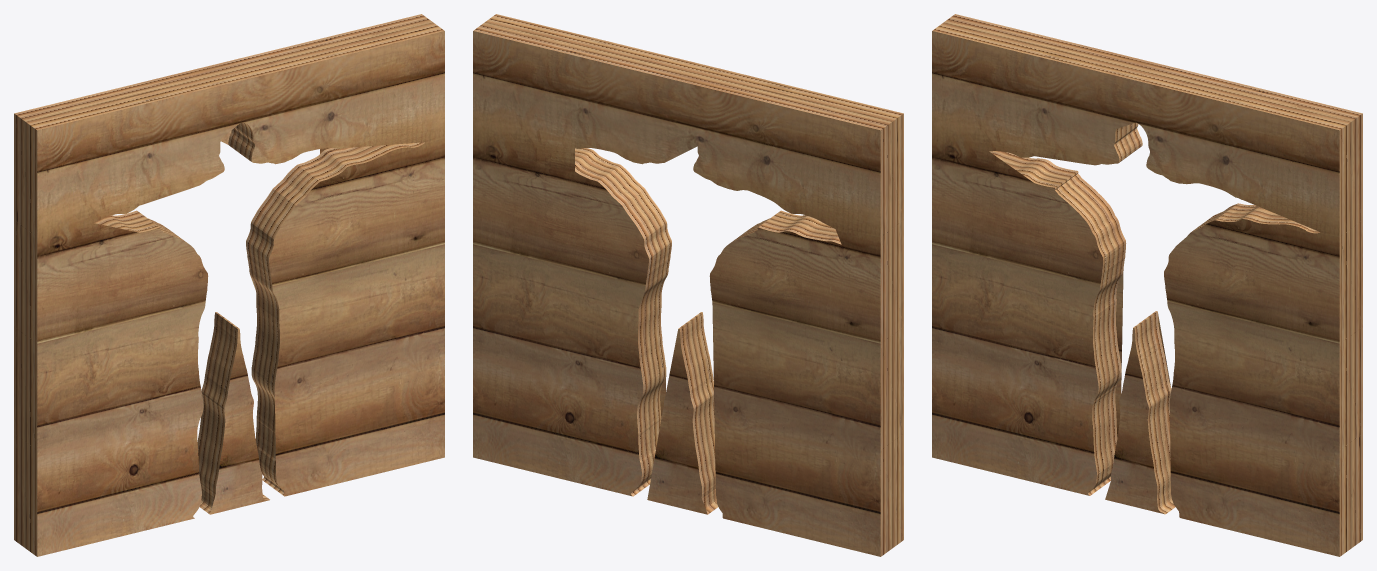
Rendered from tpose.FBX.
The picture shows the model from 3 angles, left to right: view 1: azimuth 30°, elevation 25°; view 2: azimuth 150°, elevation 25°; view 3: azimuth 330°, elevation 25°; orthographic projection.
Parts seen in each view (by area): view 1: Object001; view 2: Object001; view 3: Object001.
Part boxes in pixels (box(x1,y1,x2,y2)): Object001: box(14, 14, 444, 556); Object001: box(473, 14, 903, 556); Object001: box(932, 14, 1362, 556).
Size of the model in its own units: 2 by 2 by 0.1959.
Materials: 1 (1 with a texture image).
